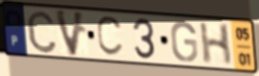3: (131, 17, 157, 62)
C: (25, 9, 59, 55), (95, 15, 125, 59)
G: (169, 20, 200, 64)
H: (198, 21, 234, 67)
V: (53, 8, 87, 59)
